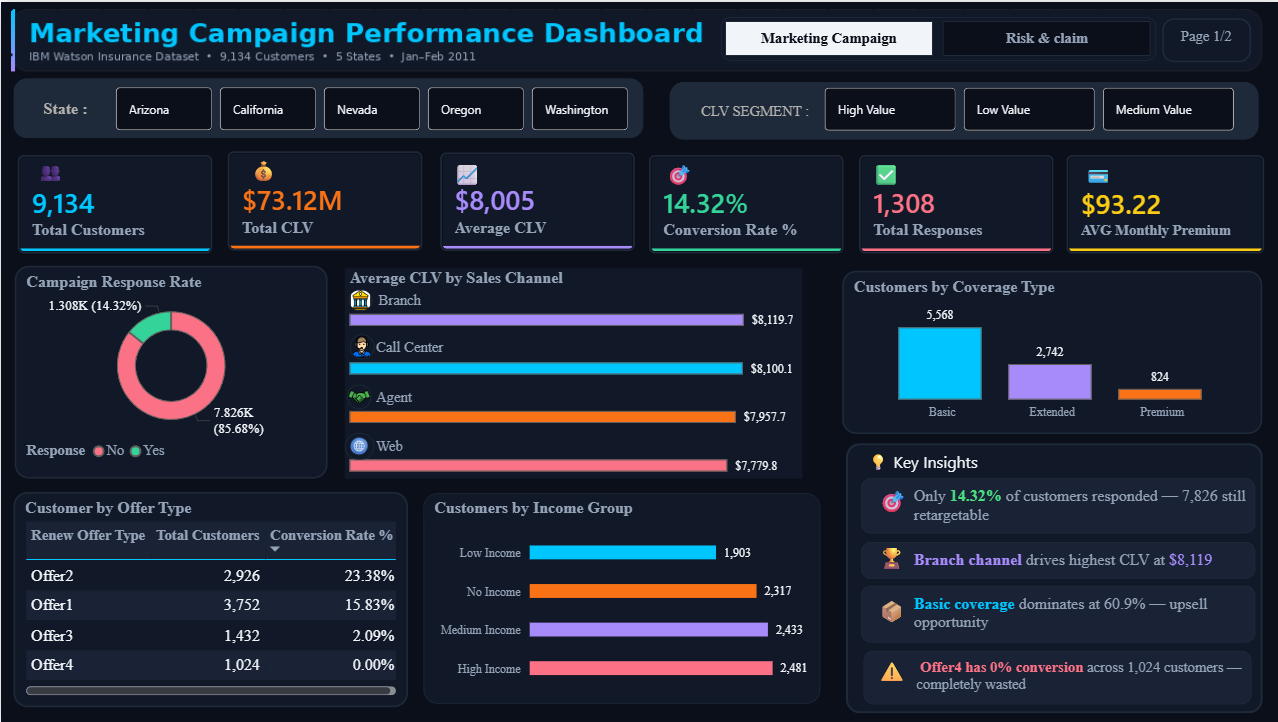

The dashboard page shown, as its layout file describes it:
{"tool":"powerbi","page":{"name":"Marketing Campaign","canvas":[1280,720],"ordinal":0},"visuals":[{"type":"shape","box":[12.1,76.6,630,60],"z":0,"group":"g3"},{"type":"shape","box":[668.8,80,588.8,57.5],"z":0},{"type":"shape","box":[844.4,441.2,416.7,270],"z":0,"group":"g2"},{"type":"advancedSlicerVisual","fields":{"Values":["IBM_Marketing.State"]},"box":[110.1,81.9,525.8,51.7],"z":1000,"group":"g3"},{"type":"advancedSlicerVisual","fields":{"Values":["IBM_Marketing.CLV Category"]},"box":[819.2,83,419.9,49.4],"z":1000},{"type":"textbox","box":[860,475.6,394.4,55.6],"z":1000,"group":"g2"},{"type":"cardVisual","fields":{"Data":["Basic KPI.Total CLV"]},"box":[210,132.5,228.8,133.8],"z":2000},{"type":"textbox","box":[860,540.1,394.4,36.7],"z":2000,"group":"g2"},{"type":"textbox","box":[36.7,92.3,72.5,42.5],"z":3000,"group":"g3"},{"type":"textbox","box":[694.8,96.2,123,30],"z":3000},{"type":"textbox","box":[860,583.4,394.4,56.7],"z":3000,"group":"g2"},{"type":"cardVisual","fields":{"Data":["Basic KPI.Total Customers"]},"box":[0,135.7,228.6,132.9],"z":4000},{"type":"textbox","box":[862.2,649,387.8,53.3],"z":4000,"group":"g2"},{"type":"cardVisual","fields":{"Data":["Basic KPI.Average CLV"]},"box":[422.9,134.3,228.6,132.9],"z":5000},{"type":"textbox","box":[861.1,443.4,208.9,42.2],"z":5000,"group":"g2"},{"type":"cardVisual","fields":{"Data":["Campaign Performance.Conversion Rate %"]},"box":[631.4,135.7,228.6,132.9],"z":6000},{"type":"textbox","box":[872.2,479,45.6,48.9],"z":6000,"group":"g2"},{"type":"cardVisual","fields":{"Data":["Basic KPI.AVG Monthaly Premium"]},"box":[1048.6,135.7,231.4,132.9],"z":7000},{"type":"textbox","box":[871.1,535.6,44.4,48.9],"z":7000,"group":"g2"},{"type":"cardVisual","fields":{"Data":["Basic KPI.Total Responses"]},"box":[841.4,135.7,228.6,132.9],"z":8000},{"type":"textbox","box":[871.1,589,44.4,41.1],"z":8000,"group":"g2"},{"type":"donutChart","title":"Campaign Response Rate","fields":{"Y":["Basic KPI.Total Customers"],"Category":["IBM_Marketing.Response"]},"box":[14.3,264.3,312.9,212.9],"z":9000},{"type":"textbox","box":[871.1,647.9,44.4,41.1],"z":9000,"group":"g2"},{"type":"clusteredBarChart","fields":{"Y":["Basic KPI.Average CLV"],"Category":["IBM_Marketing.Sales Channel"]},"box":[344.4,265.7,457.9,210.8],"z":10000,"group":"g1"},{"type":"clusteredColumnChart","title":"Customers by Coverage Type","fields":{"Category":["IBM_Marketing.Coverage"],"Y":["Basic KPI.Total Customers"]},"box":[841.4,268.6,420,162.9],"z":10000},{"type":"group","id":"g1","title":"Group 1","box":[344.3,265.7,458,210.8],"z":11000},{"type":"tableEx","title":"Customer by Offer Type","fields":{"Values":["IBM_Marketing.Renew Offer Type","Basic KPI.Total Customers","Campaign Performance.Conversion Rate %"]},"box":[12.2,490,394.4,215.6],"z":12000},{"type":"textbox","box":[372.6,284.9,70,28.3],"z":13000,"group":"g1"},{"type":"clusteredBarChart","title":"Customers by Income Group","fields":{"Y":["Basic KPI.Total Customers"],"Category":["IBM_Marketing.Income Group"]},"box":[422.2,491.1,396.7,210],"z":13000},{"type":"textbox","box":[371,382,76,27],"z":14000,"group":"g1"},{"type":"group","id":"g2","title":"Group 2","box":[844.4,441.2,416.7,270],"z":14000},{"type":"group","id":"g3","title":"Group 3","box":[12.1,76.6,630,60],"z":15000},{"type":"textbox","box":[371,431,85,28],"z":15000,"group":"g1"},{"type":"textbox","box":[31.2,150,47.5,42.5],"z":16000},{"type":"textbox","box":[371,332,103,28],"z":16000,"group":"g1"},{"type":"textbox","box":[243.8,150,47.5,42.5],"z":17000},{"type":"image","box":[348.8,332.4,24.4,25],"z":17000,"group":"g1"},{"type":"textbox","box":[447.5,153.8,47.5,38.8],"z":18000},{"type":"image","box":[346.7,382.3,24,25],"z":18000,"group":"g1"},{"type":"textbox","box":[660,153.8,47.5,38.8],"z":19000},{"type":"image","box":[344.3,430.5,29.3,26],"z":19000,"group":"g1"},{"type":"textbox","box":[866.2,153.8,47.5,38.8],"z":20000},{"type":"image","box":[348.5,287.4,24.2,21.7],"z":20000,"group":"g1"},{"type":"textbox","box":[1078.8,151.2,55,38.8],"z":21000},{"type":"image","box":[10,6.2,1251.2,63.8],"z":22000},{"type":"pageNavigator","box":[720,15,435,43.8],"z":23000},{"type":"textbox","box":[1161.2,16.2,88.8,43.8],"z":24000}]}

Visuals, with their boxes in screenshot pixels (x1, y1, x2, y2), scaled from the page's 1280x720 canvas onto the 1278x722 screenshot:
shape: region(12, 77, 641, 137)
shape: region(668, 80, 1256, 138)
shape: region(843, 442, 1259, 713)
advancedSlicerVisual - IBM_Marketing.State: region(110, 82, 635, 134)
advancedSlicerVisual - IBM_Marketing.CLV Category: region(818, 83, 1237, 133)
textbox: region(859, 477, 1252, 533)
cardVisual - Basic KPI.Total CLV: region(210, 133, 438, 267)
textbox: region(859, 542, 1252, 578)
textbox: region(37, 93, 109, 135)
textbox: region(694, 96, 817, 127)
textbox: region(859, 585, 1252, 642)
cardVisual - Basic KPI.Total Customers: region(0, 136, 228, 269)
textbox: region(861, 651, 1248, 704)
cardVisual - Basic KPI.Average CLV: region(422, 135, 650, 268)
textbox: region(860, 445, 1068, 487)
cardVisual - Campaign Performance.Conversion Rate %: region(630, 136, 859, 269)
textbox: region(871, 480, 916, 529)
cardVisual - Basic KPI.AVG Monthaly Premium: region(1047, 136, 1277, 269)
textbox: region(870, 537, 914, 586)
cardVisual - Basic KPI.Total Responses: region(840, 136, 1068, 269)
textbox: region(870, 591, 914, 632)
"Campaign Response Rate" donutChart: region(14, 265, 327, 479)
textbox: region(870, 650, 914, 691)
clusteredBarChart - Basic KPI.Average CLV x IBM_Marketing.Sales Channel: region(344, 266, 801, 478)
"Customers by Coverage Type" clusteredColumnChart: region(840, 269, 1259, 433)
"Group 1" group: region(344, 266, 801, 478)
"Customer by Offer Type" tableEx: region(12, 491, 406, 708)
textbox: region(372, 286, 442, 314)
"Customers by Income Group" clusteredBarChart: region(422, 492, 818, 703)
textbox: region(370, 383, 446, 410)
"Group 2" group: region(843, 442, 1259, 713)
"Group 3" group: region(12, 77, 641, 137)
textbox: region(370, 432, 455, 460)
textbox: region(31, 150, 79, 193)
textbox: region(370, 333, 473, 361)
textbox: region(243, 150, 291, 193)
image: region(348, 333, 373, 358)
textbox: region(447, 154, 494, 193)
image: region(346, 383, 370, 408)
textbox: region(659, 154, 706, 193)
image: region(344, 432, 373, 458)
textbox: region(865, 154, 912, 193)
image: region(348, 288, 372, 310)
textbox: region(1077, 152, 1132, 191)
image: region(10, 6, 1259, 70)
pageNavigator: region(719, 15, 1153, 59)
textbox: region(1159, 16, 1248, 60)
